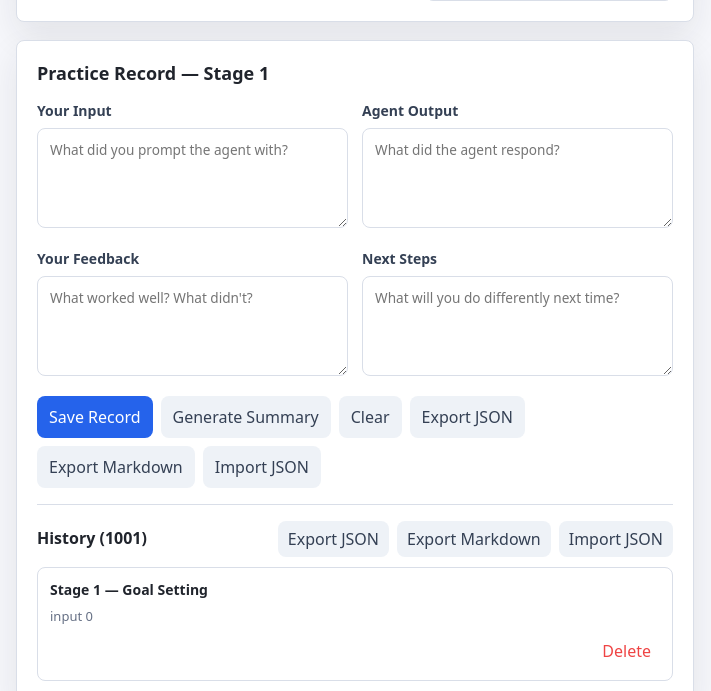
Scenario: CodeAgentFlowVizPlugin › does not download partial JSON when a later page returns success false
(page scrolled)
Expected: the heading "History (1001)" is shown, [37, 528, 147, 549]
Click the 1st button "Export JSON": [467, 416] box [410, 396, 525, 438]
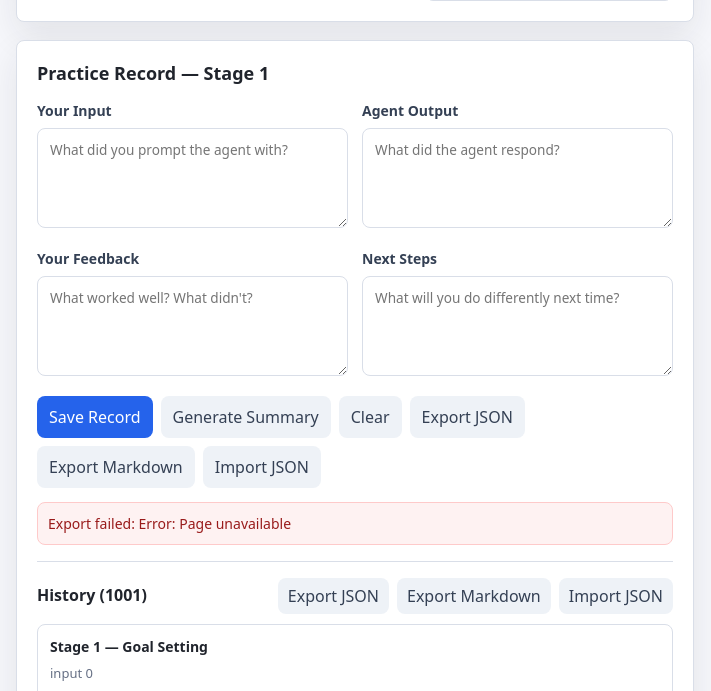
Expected: the text "Export failed: Error: Page unavailable" is shown, [37, 502, 673, 544]
